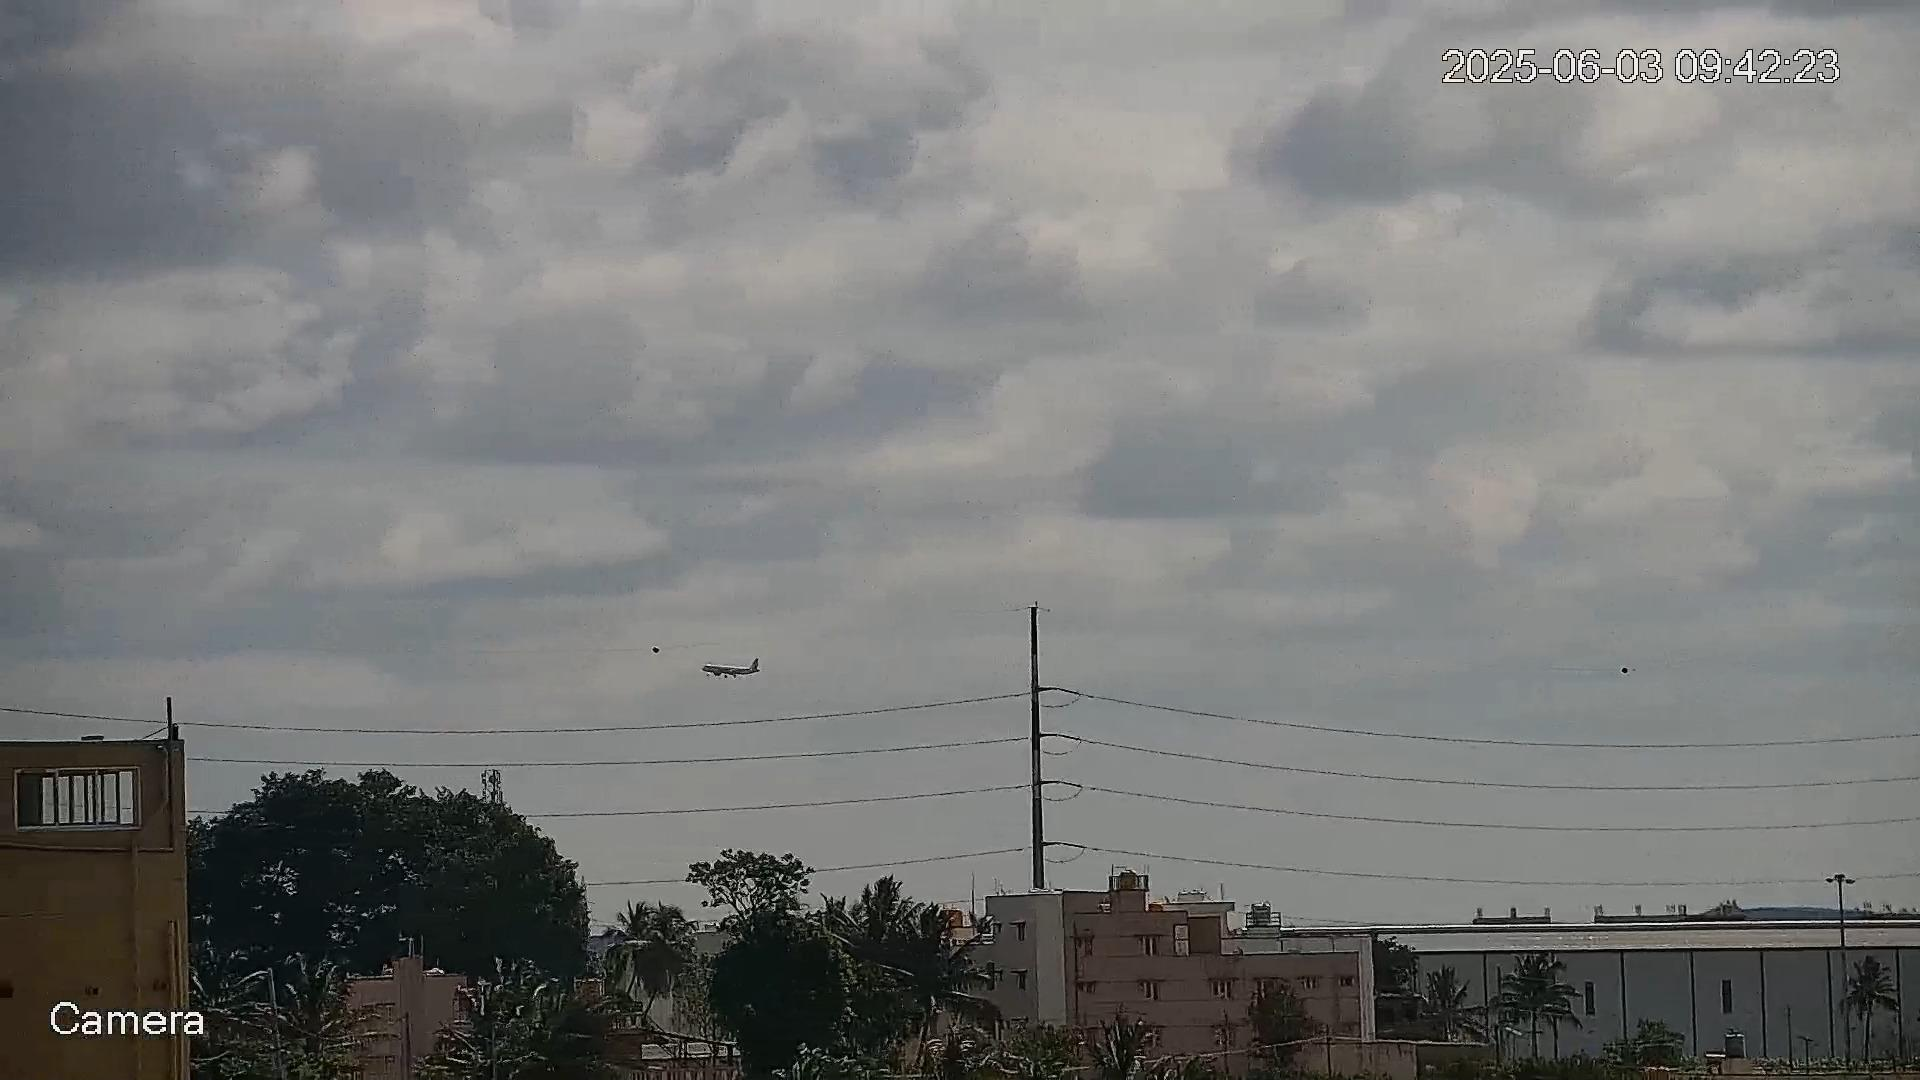Aircraft: (700, 657, 761, 679)
